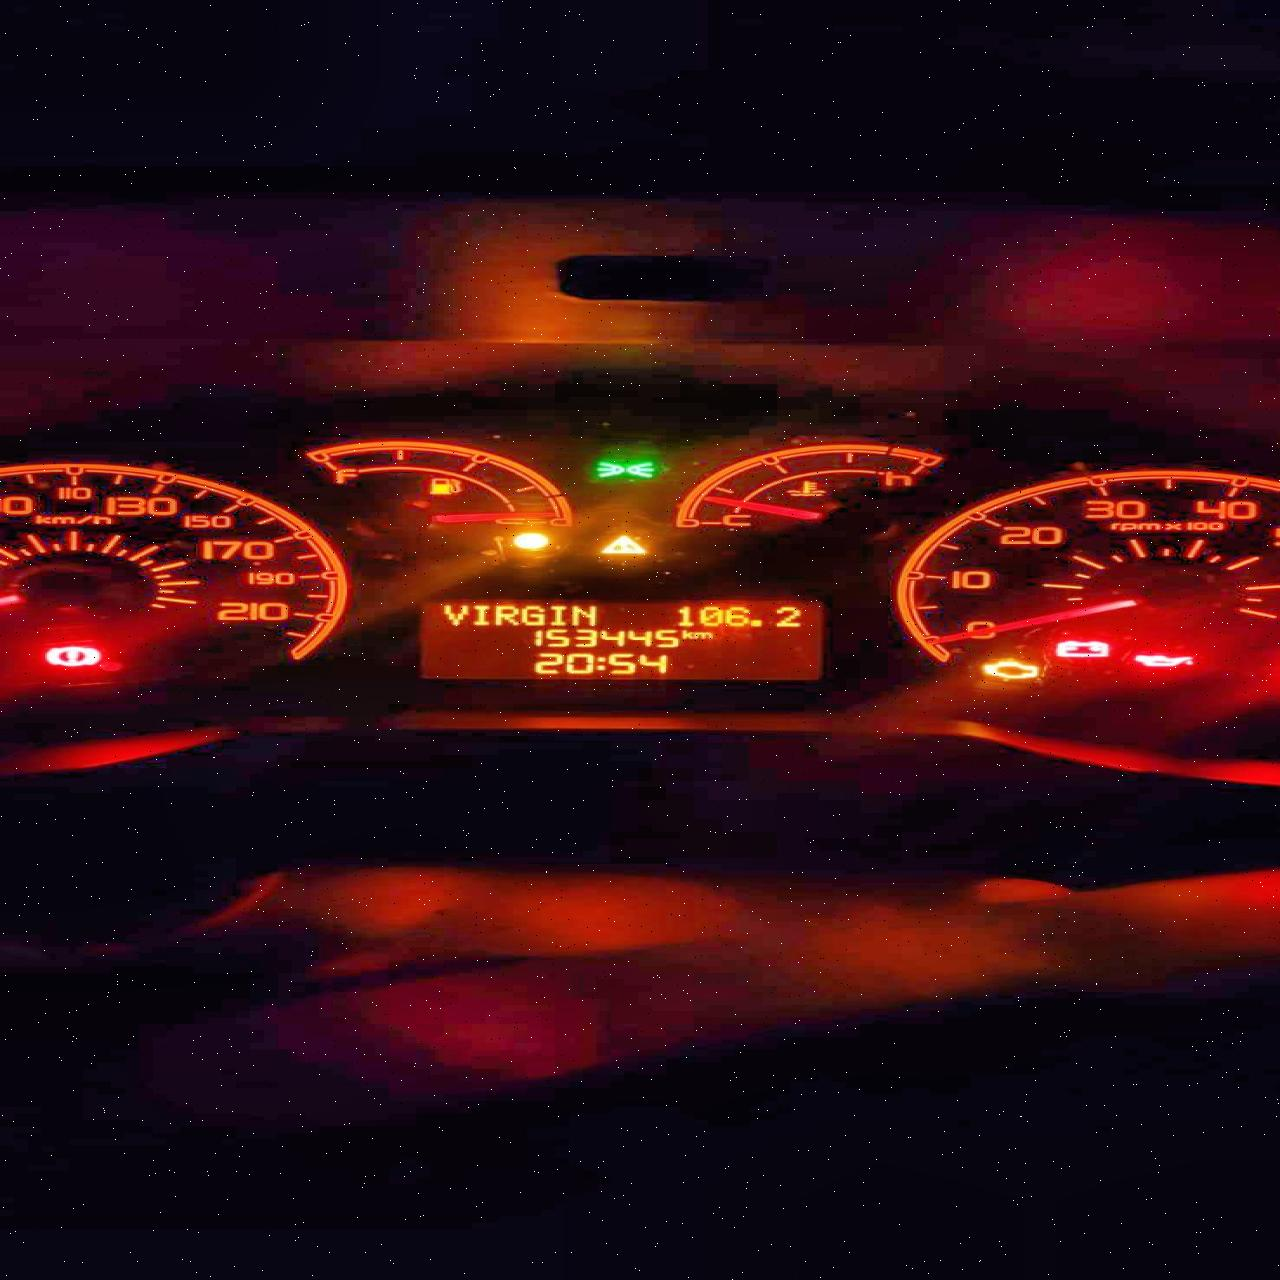-: (745, 617, 763, 629)
0: (565, 652, 593, 674), (699, 604, 721, 626)
1: (673, 605, 694, 626), (527, 628, 542, 648)
2: (772, 605, 805, 629), (531, 651, 561, 674)
3: (572, 628, 597, 648)
4: (636, 653, 669, 674), (598, 628, 622, 647), (626, 628, 651, 647)
5: (605, 652, 635, 674), (654, 628, 676, 648), (545, 628, 567, 647)
6: (726, 605, 748, 627)
X: (438, 601, 467, 626), (571, 602, 600, 626), (492, 602, 516, 626), (522, 604, 543, 626), (471, 602, 489, 627), (550, 602, 561, 627), (594, 654, 605, 672), (693, 632, 715, 639), (680, 628, 692, 639)
odometer: (410, 595, 828, 687)
